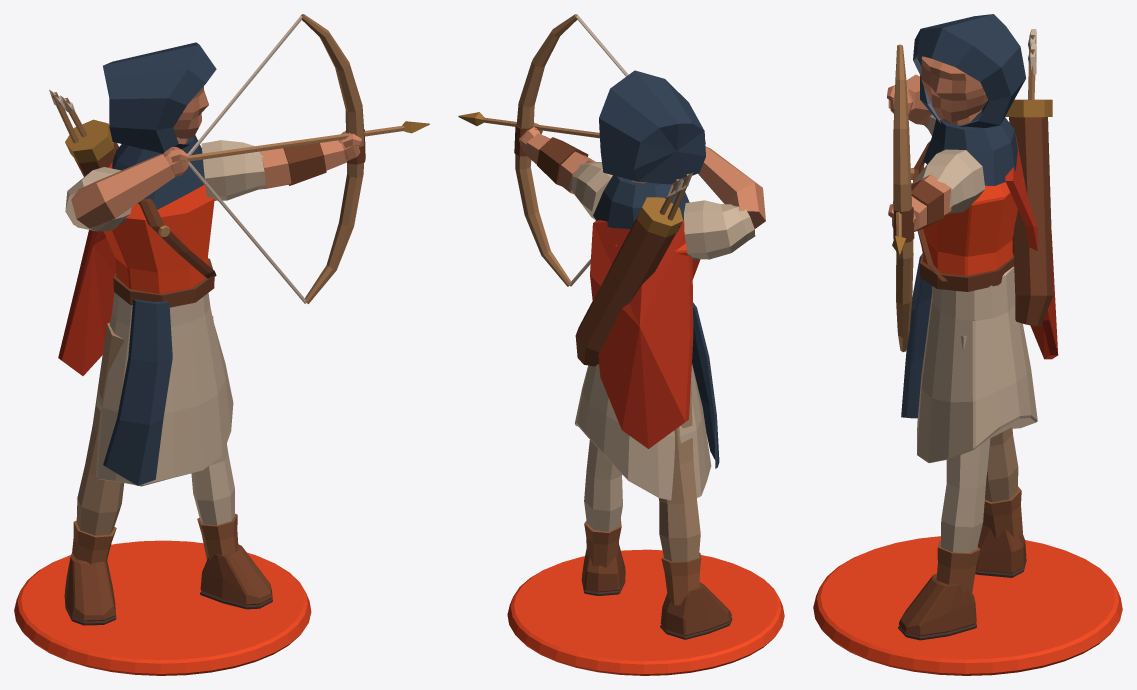
Rendered from archer.glb.
3 views of the same model, side by side, from view 1: azimuth 30°, elevation 25°; view 2: azimuth 150°, elevation 25°; view 3: azimuth 270°, elevation 25° (orthographic). The views are drawn at different scales.
Parts seen in each view (by area): view 1: Archer; view 2: Archer; view 3: Archer.
Part boxes in pixels (x1,y1,x2,y2): Archer: [14, 14, 429, 675]; Archer: [458, 14, 784, 675]; Archer: [813, 14, 1122, 675].
Size of the model in its own units: 1.12 by 1.76 by 0.7959.
